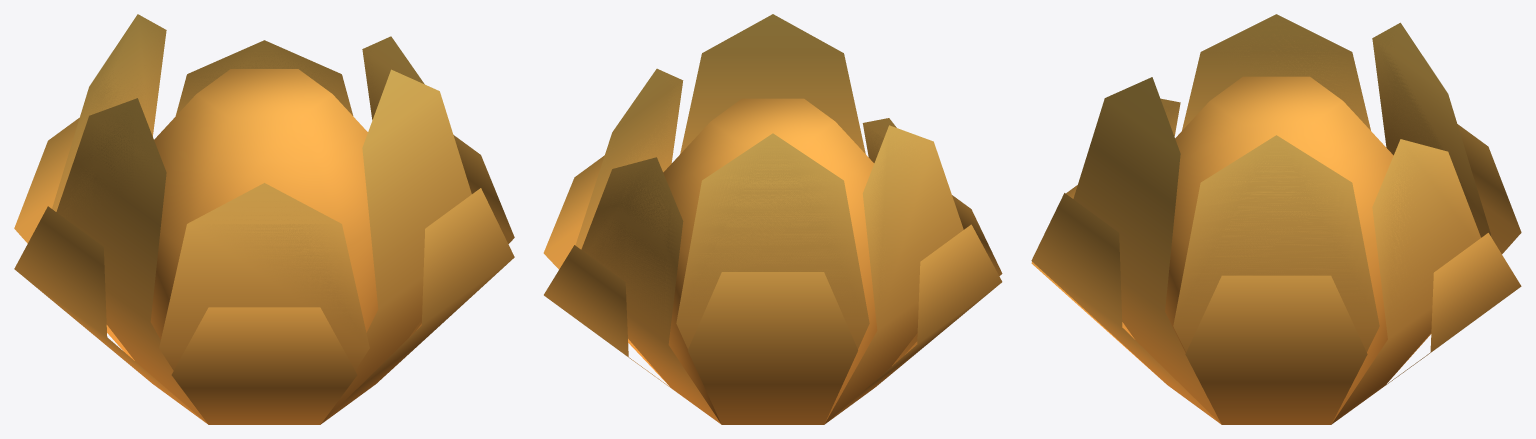
Rendered from cabbage.glb.
3 views of the same model, side by side, from view 1: azimuth 30°, elevation 25°; view 2: azimuth 150°, elevation 25°; view 3: azimuth 270°, elevation 25° (orthographic). The views are drawn at different scales.
Visible parts, largest first — view 1: cabbage; view 2: cabbage; view 3: cabbage.
Part boxes in pixels (x1,y1,x2,y2): cabbage: (14, 14, 514, 424); cabbage: (543, 14, 1002, 424); cabbage: (1031, 14, 1521, 424).
Size of the model in its own units: 0.3795 by 0.3074 by 0.4036.
1 material, 1 textured.
